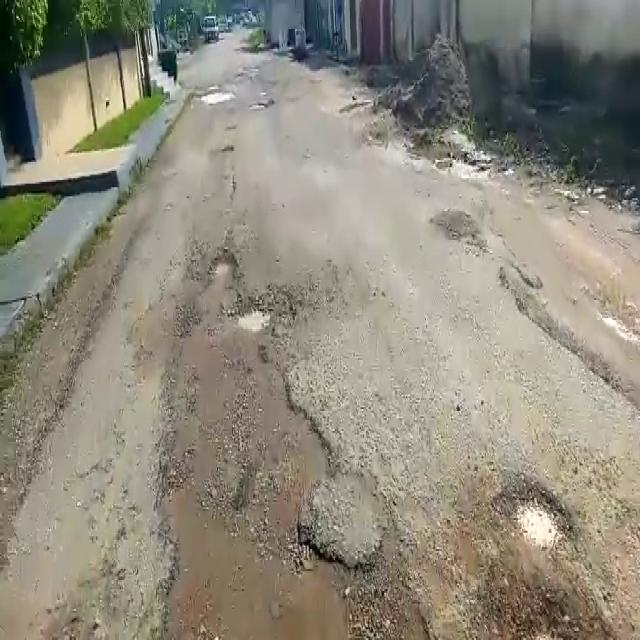Pothole: (476, 565, 624, 640), (494, 472, 577, 552), (230, 293, 289, 343), (204, 248, 240, 285), (198, 88, 236, 105)
